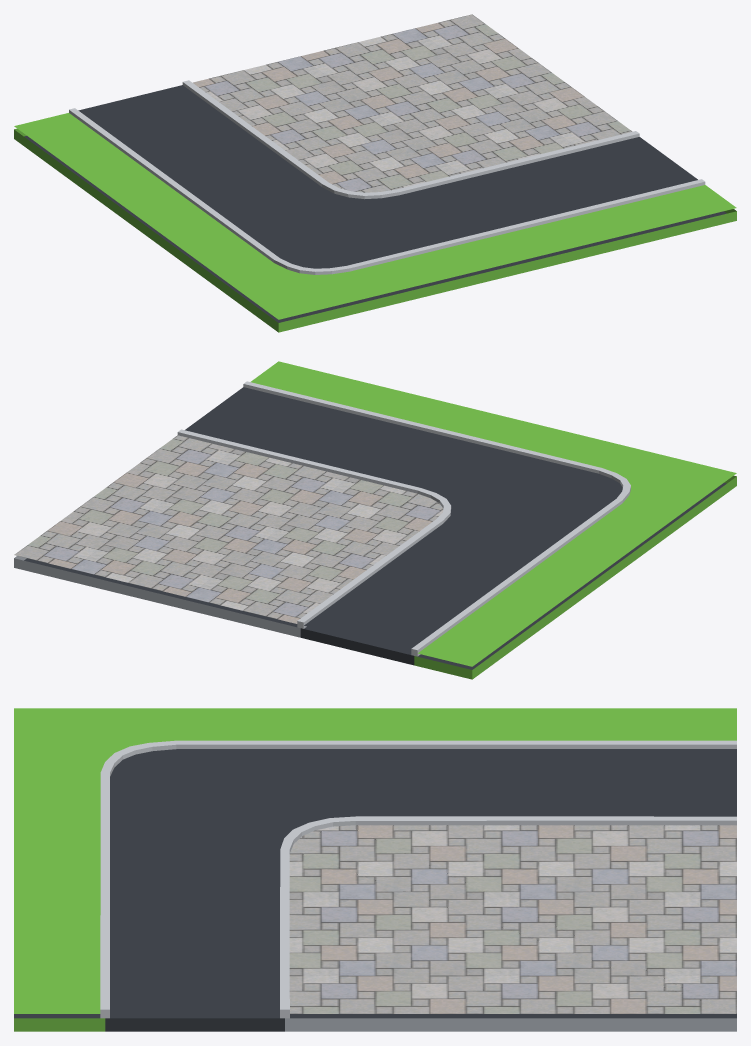
The model's file is set_b_tiles_01_pacote.glb.
3 views of the same model, one above another, from view 1: azimuth 30°, elevation 25°; view 2: azimuth 150°, elevation 25°; view 3: azimuth 270°, elevation 25° (orthographic). The views are drawn at different scales.
Parts seen in each view (by area): view 1: set_b_tiles_01_pacote; view 2: set_b_tiles_01_pacote; view 3: set_b_tiles_01_pacote.
Boxes of the visible parts, bbox=[...] form: set_b_tiles_01_pacote: bbox=[14, 14, 736, 332]; set_b_tiles_01_pacote: bbox=[14, 361, 736, 679]; set_b_tiles_01_pacote: bbox=[14, 708, 736, 1031].
Size of the model in its own units: 15 by 0.5 by 15.
2 materials, 2 textured.
